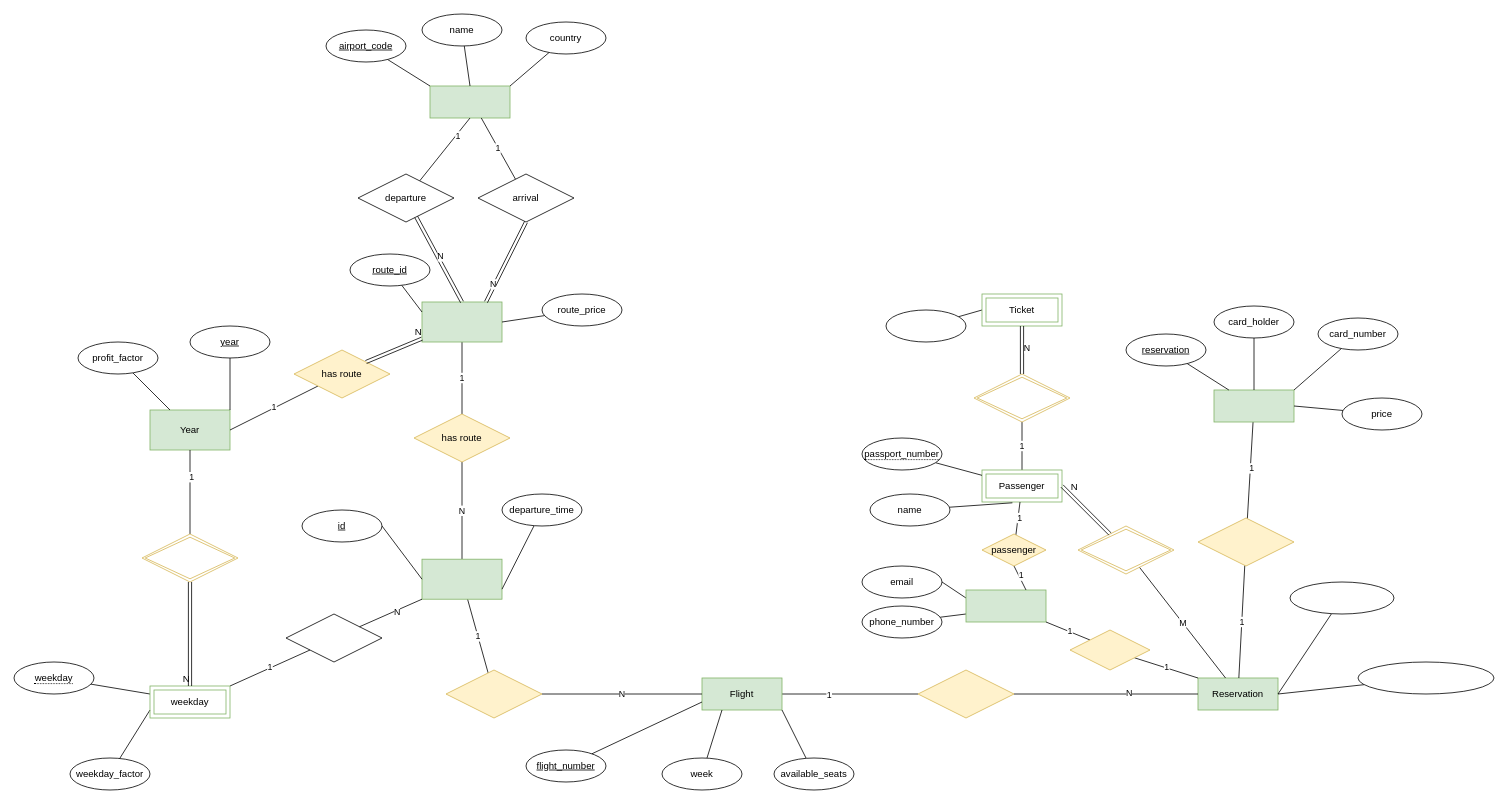
This 1508x804 diagram has some shape labels left out. Here are the shapes that lost their labels. From the top down, the box of each, then its label:
(429, 85, 510, 118): Airport
(421, 301, 502, 342): Route
(885, 309, 966, 342): ticket_number
(973, 373, 1070, 422): has ticket
(1213, 389, 1294, 422): Payment
(141, 533, 238, 582): has weekday
(1077, 525, 1174, 574): passengers
(1197, 517, 1294, 566): pays
(421, 558, 502, 599): Weekly_schedule
(1289, 581, 1394, 614): reservation_number
(965, 589, 1046, 622): Contact
(285, 613, 382, 662): on weekday
(1069, 629, 1150, 670): contact info
(445, 669, 542, 718): scheduled
(917, 669, 1014, 718): reserved flight
(1357, 661, 1494, 694): number_of_passengers
